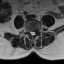CCS_normal: (32, 29, 34, 37)
LFS_severe_stenosis: (35, 29, 37, 33)
LLS_normal: (34, 30, 35, 36)
RFS_severe_stenosis: (28, 29, 30, 34)
RLS_normal: (30, 30, 32, 35)
